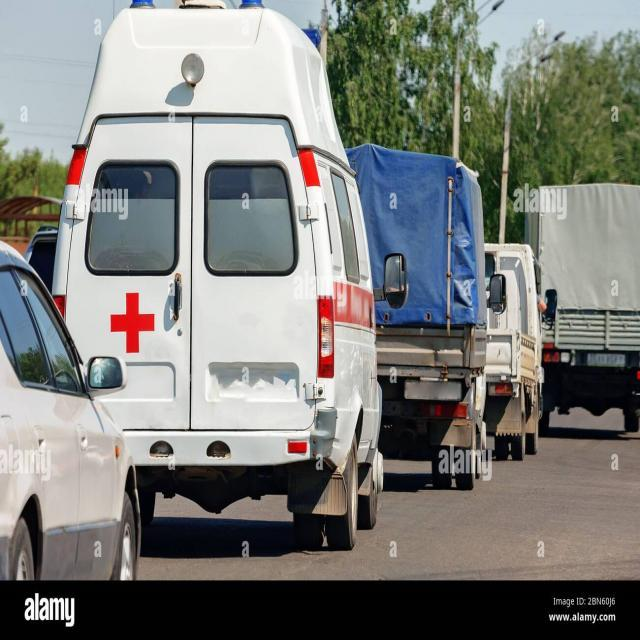emergency-vehicle: (42, 6, 394, 558)
